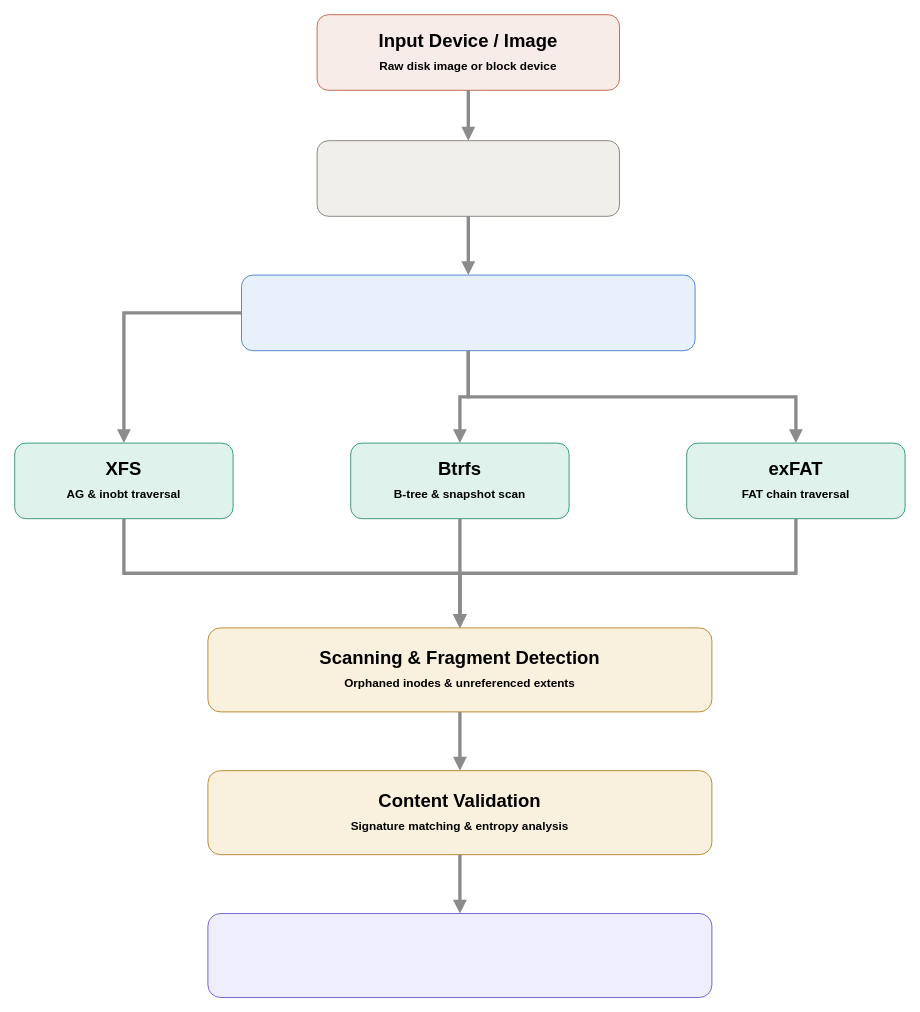
Some shapes in this 920 by 1012 pixel diagram are drawn without their labels. Each missing label, with the box of its shape:
Filesystem Adapter Routes to matching extraction pipeline: (241, 274, 695, 351)
Filesystem Detection Superblock & magic-value validation: (316, 140, 620, 216)
Reconstruction & Directory Building Metadata, timestamps, directory paths: (207, 913, 712, 998)
